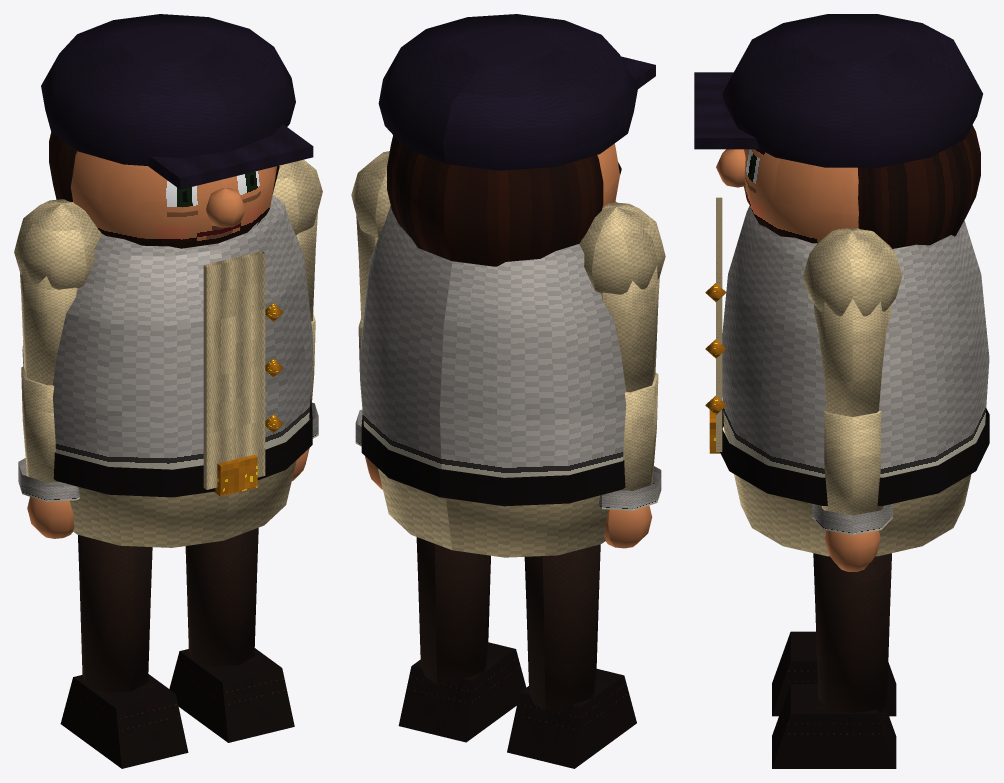
The model's file is npc_buerger.glb.
3 renders of one model, left to right at view 1: azimuth 30°, elevation 25°; view 2: azimuth 150°, elevation 25°; view 3: azimuth 270°, elevation 25°, orthographic.
Parts seen in each view (by area): view 1: vest, cap, shirtFront, head, belly, leg-1, leg1, boot-1, boot1, shoulder-1, belt, capBrim (+9 smaller); view 2: vest, cap, hairB, belly, leg-1, leg1, belt, boot-1, boot1, shoulder-1, upper-1, fore-1 (+6 smaller); view 3: vest, cap, leg1, hairB, head, boot1, belly, shoulder1, upper1, belt, fore1, capBrim (+5 smaller).
Boxes of the visible parts, x1=… form: vest: x1=22, y1=195, x2=313, y2=469; cap: x1=41, y1=14, x2=295, y2=165; shirtFront: x1=203, y1=251, x2=265, y2=489; head: x1=70, y1=151, x2=276, y2=248; belly: x1=70, y1=460, x2=296, y2=547; leg-1: x1=78, y1=535, x2=152, y2=692; leg1: x1=185, y1=527, x2=258, y2=666; boot-1: x1=60, y1=674, x2=188, y2=768; boot1: x1=169, y1=648, x2=294, y2=742; shoulder-1: x1=14, y1=199, x2=101, y2=289; belt: x1=53, y1=396, x2=312, y2=497; capBrim: x1=148, y1=124, x2=313, y2=189; vest: x1=359, y1=201, x2=626, y2=477; cap: x1=378, y1=14, x2=638, y2=170; hairB: x1=387, y1=135, x2=603, y2=266; belly: x1=378, y1=468, x2=608, y2=557; leg-1: x1=524, y1=544, x2=600, y2=711; leg1: x1=416, y1=537, x2=490, y2=684; belt: x1=361, y1=411, x2=625, y2=506; boot-1: x1=507, y1=669, x2=636, y2=768; boot1: x1=398, y1=642, x2=526, y2=742; shoulder-1: x1=579, y1=202, x2=665, y2=294; upper-1: x1=601, y1=265, x2=659, y2=392; fore-1: x1=620, y1=373, x2=658, y2=490; vest: x1=722, y1=206, x2=989, y2=477; cap: x1=722, y1=14, x2=982, y2=167; leg1: x1=813, y1=553, x2=891, y2=713; hairB: x1=858, y1=125, x2=980, y2=248; head: x1=744, y1=149, x2=858, y2=243; boot1: x1=772, y1=684, x2=896, y2=768; belly: x1=723, y1=411, x2=971, y2=556; shoulder1: x1=803, y1=228, x2=902, y2=316; upper1: x1=814, y1=299, x2=891, y2=416; belt: x1=720, y1=408, x2=989, y2=505; fore1: x1=822, y1=411, x2=883, y2=515; capBrim: x1=694, y1=72, x2=759, y2=149.
Size of the model in its own units: 1.1 by 2.43 by 0.951.
Materials: 10 (10 with a texture image).
